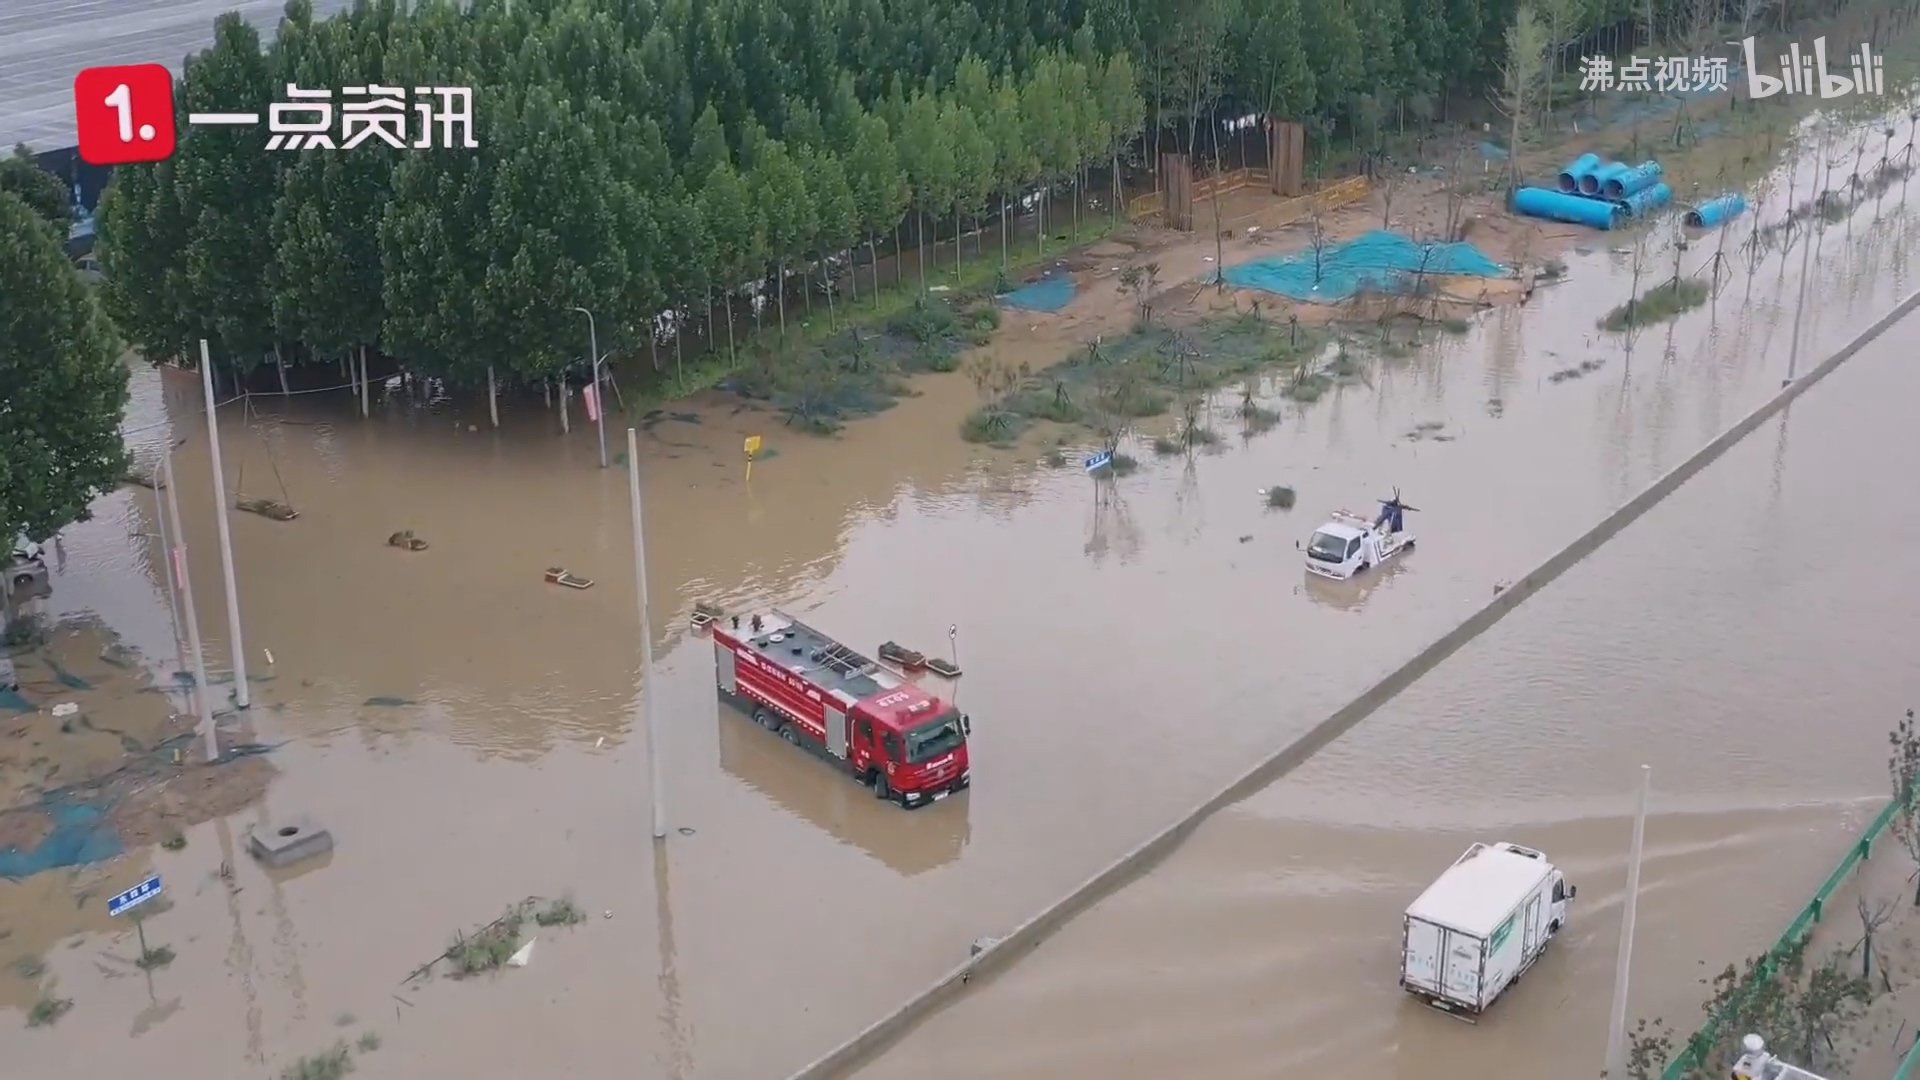puddle: (138, 392, 1743, 1080)
